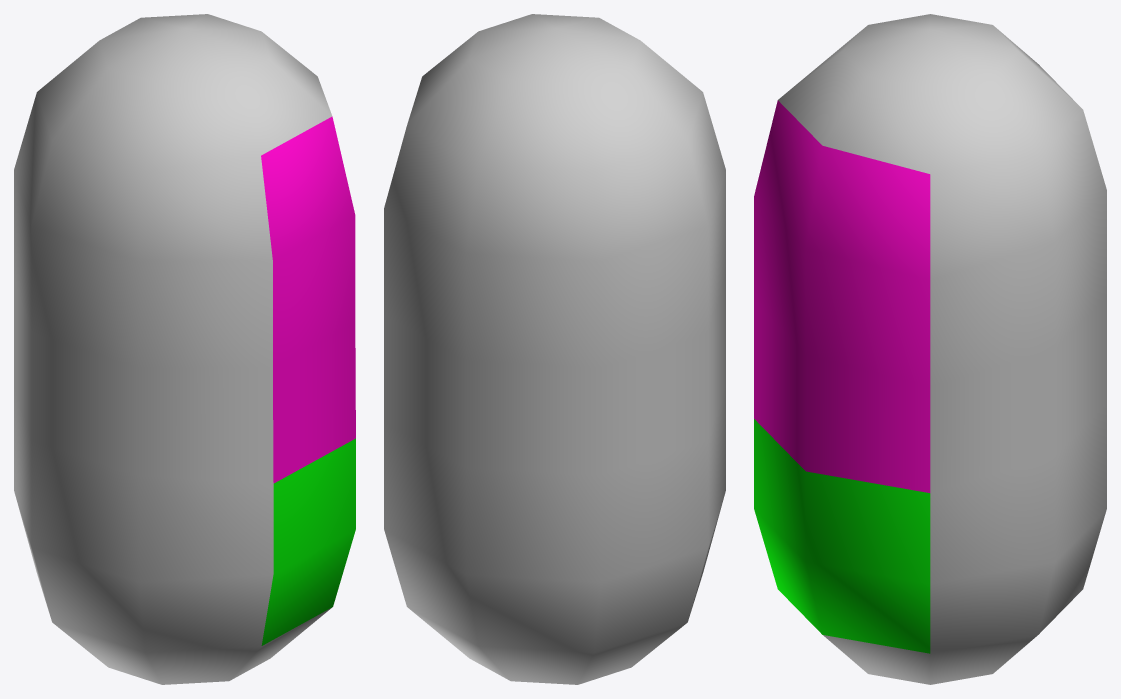
The model's file is sample.dae.
3 views of the same model, side by side, from view 1: azimuth 30°, elevation 25°; view 2: azimuth 150°, elevation 25°; view 3: azimuth 270°, elevation 25° (orthographic).
Visible parts, largest first — view 1: Capsule; view 2: Capsule; view 3: Capsule.
Part boxes in pixels (x1,y1,x2,y2): Capsule: [14, 14, 355, 684]; Capsule: [384, 14, 725, 684]; Capsule: [754, 14, 1106, 684].
Size of the model in its own units: 100 by 200 by 100.
